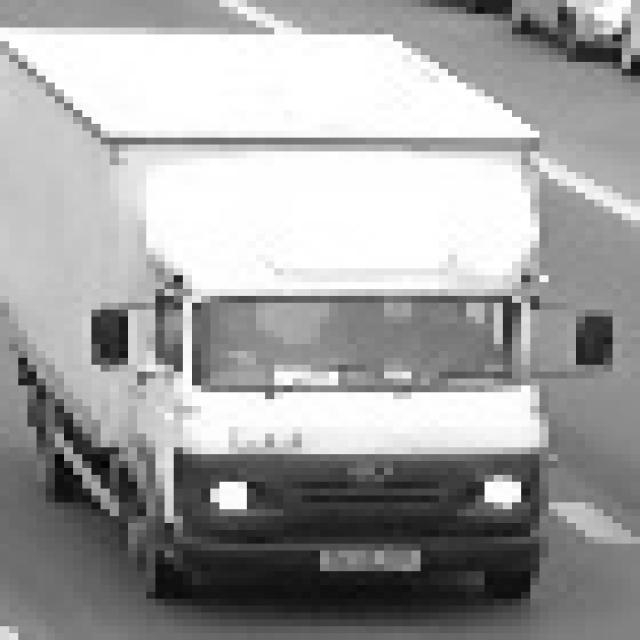truck: (0, 21, 613, 606)
